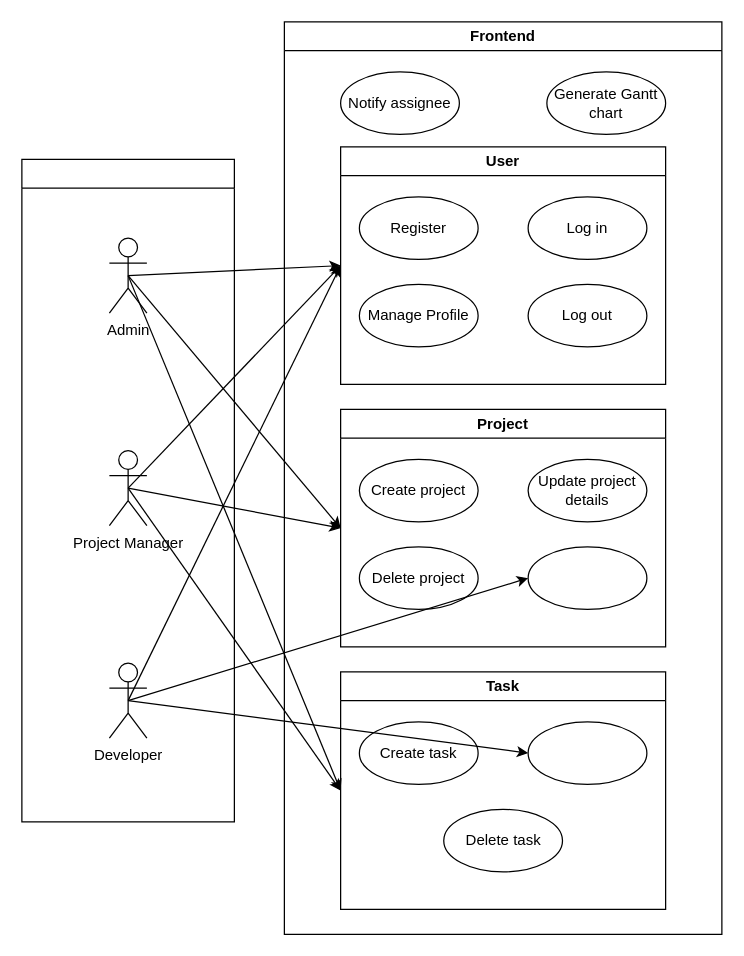
This 744x956 diagram has some shape labels left out. Each missing label, with the centre of its shape:
"Role" belongs at (127,490).
"Update task details" belongs at (587,752).
"View Gantt chart" belongs at (587,577).
